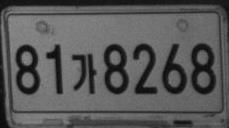1: (45, 43, 70, 94)
2: (132, 42, 158, 94)
6: (162, 43, 188, 94)
8: (190, 42, 217, 94), (14, 43, 41, 94), (102, 43, 129, 94)
가: (72, 53, 97, 94)
